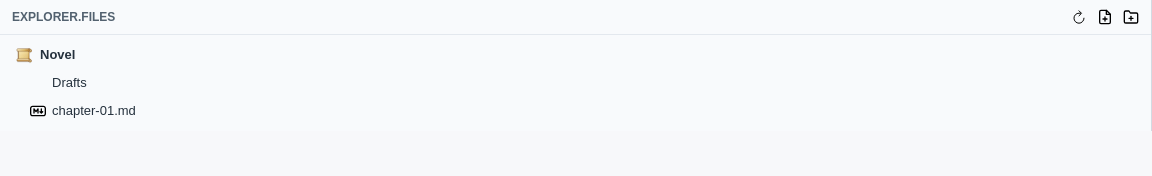
Test: FileExplorer › reloads the selected file parent folder
The image size is (1152, 176).
What coordinates should you click on to do the following:
click the list item "Drafts"
I would click on:
 (69, 82)
Its box is [6, 69, 1145, 97].
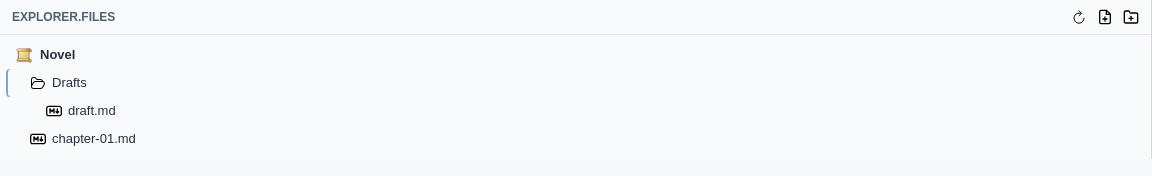
What coordinates should you click on to do the following:
click the list item "draft.md"
I would click on:
 (92, 110)
Its box is [6, 97, 1145, 125].
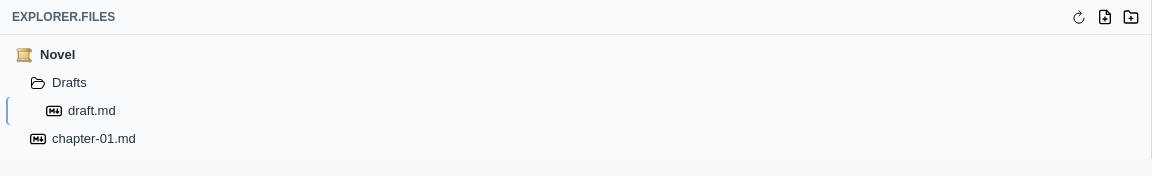
What coordinates should you click on to do the following:
click the button named "explorer.reload"
I would click on:
 (1079, 17)
Its box is [1067, 5, 1091, 29].
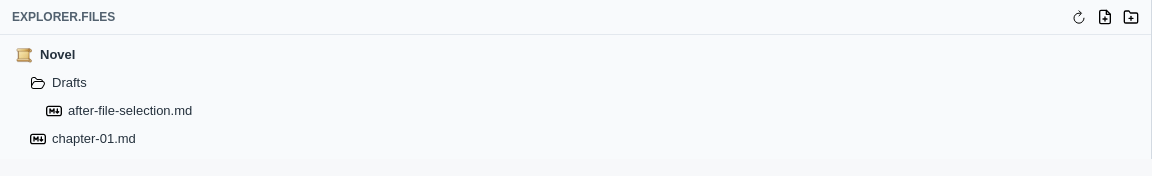
Now the text "after-file-selection.md" is shown, box [68, 103, 192, 118]
